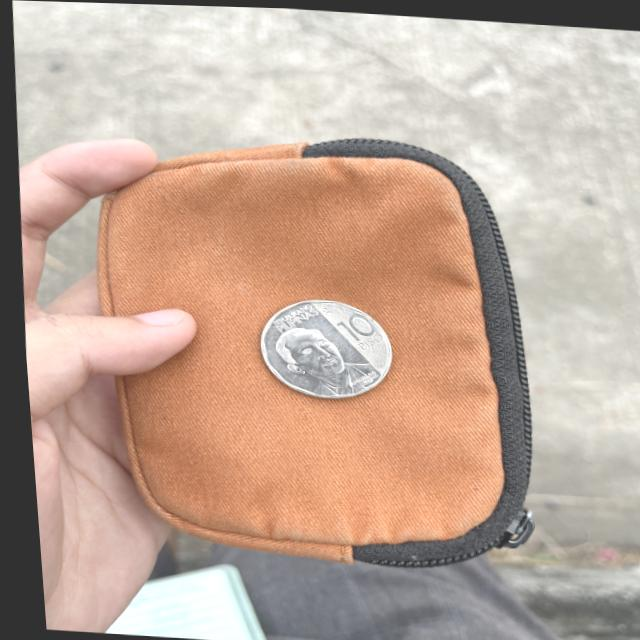10_New_Front: (314, 308, 392, 351)
